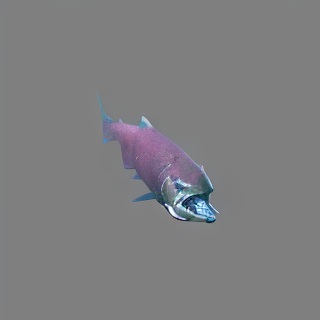Chinook salmon: (97, 99, 222, 227)
